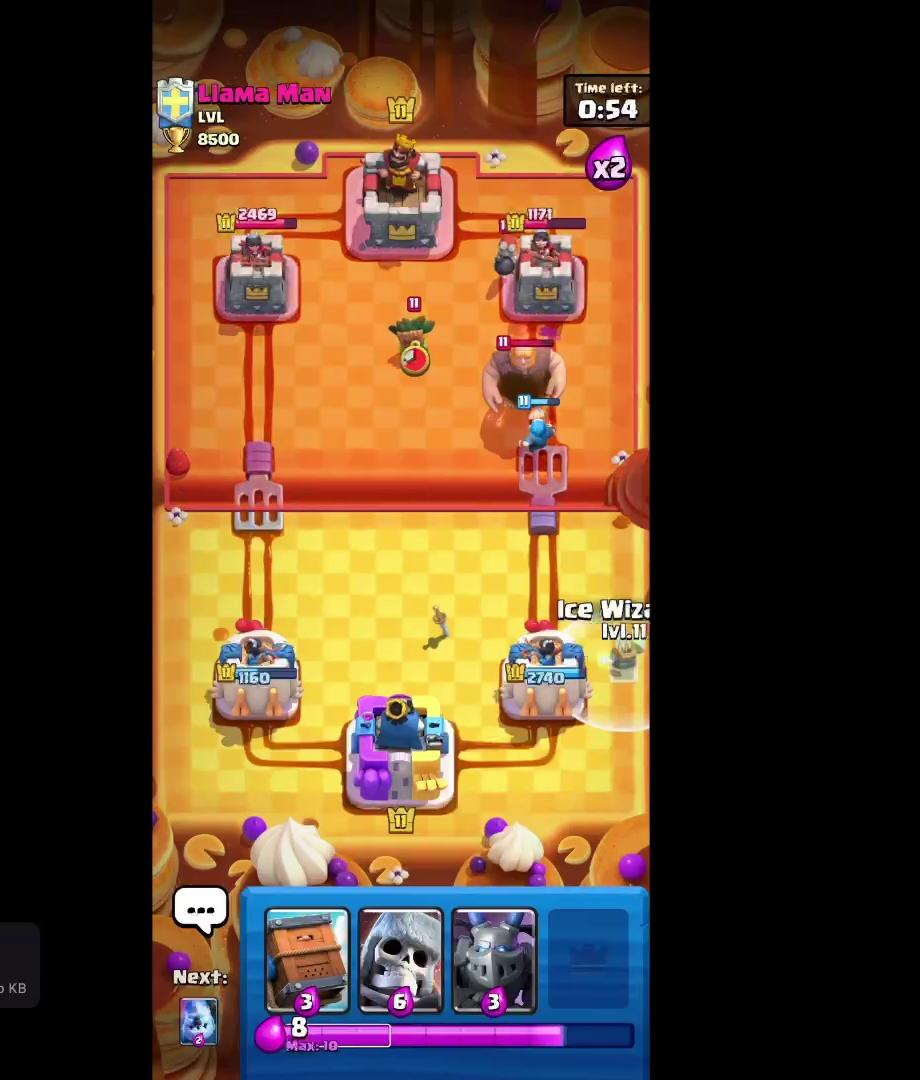Giant: (483, 336, 571, 420)
